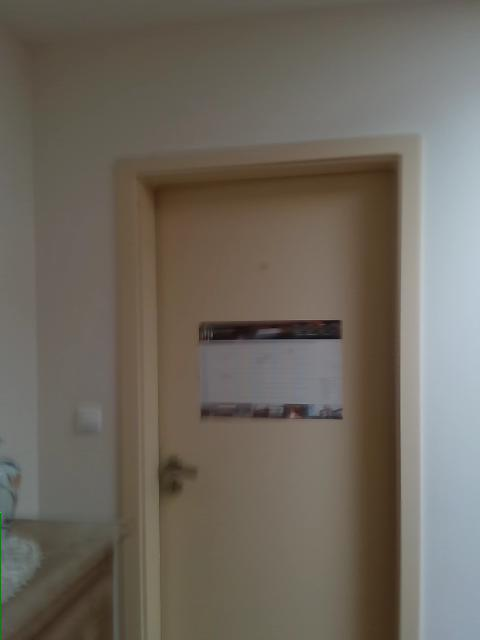door: (111, 133, 422, 636)
